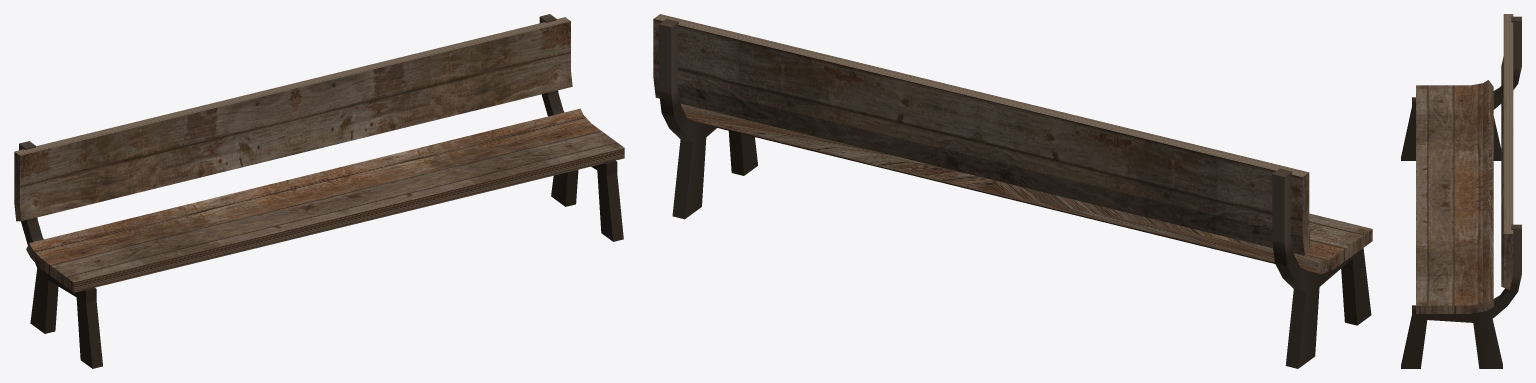
The model's file is parkbench.gltf.
The picture shows the model from 3 angles, left to right: view 1: azimuth 30°, elevation 25°; view 2: azimuth 150°, elevation 25°; view 3: azimuth 270°, elevation 25°; orthographic projection. The views are drawn at different scales.
Parts seen in each view (by area): view 1: Park Bench; view 2: Park Bench; view 3: Park Bench.
Boxes of the visible parts, left/top/right/bottom form: Park Bench: left=14, top=14, right=624, bottom=368; Park Bench: left=653, top=14, right=1372, bottom=368; Park Bench: left=1401, top=14, right=1521, bottom=368.
Bounding box in the file's own units: 4.23 × 1.26 × 0.9795.
1 material, 1 textured.
